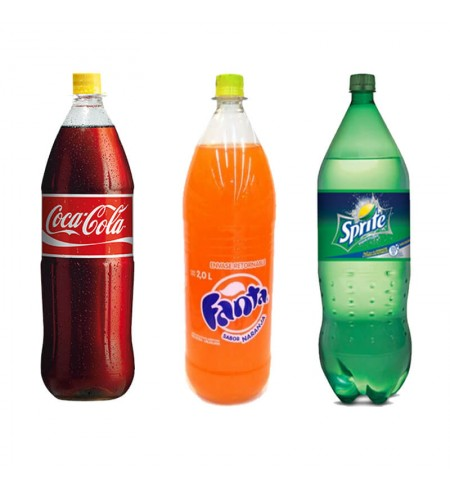Coca-Cola: (40, 74, 139, 406)
Fanta: (180, 75, 279, 407)
Sprite: (314, 73, 412, 405)
